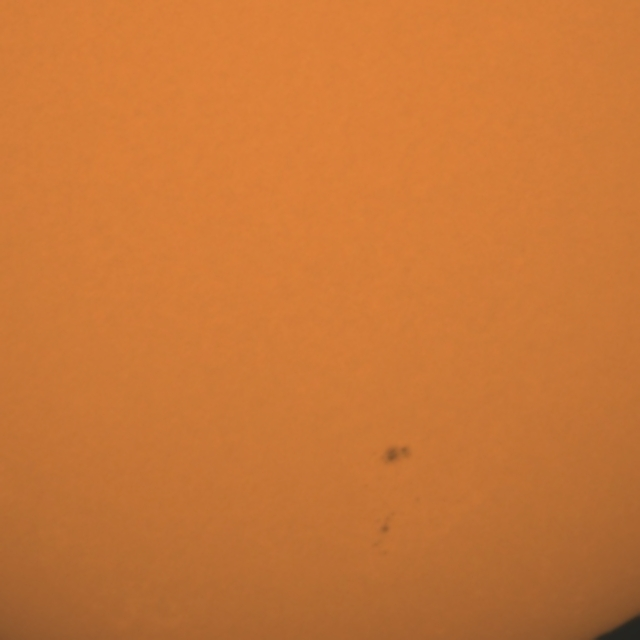sunspot: (370, 521, 393, 561), (378, 443, 413, 467), (377, 510, 396, 537)
